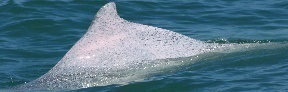fin: (30, 1, 268, 89)
